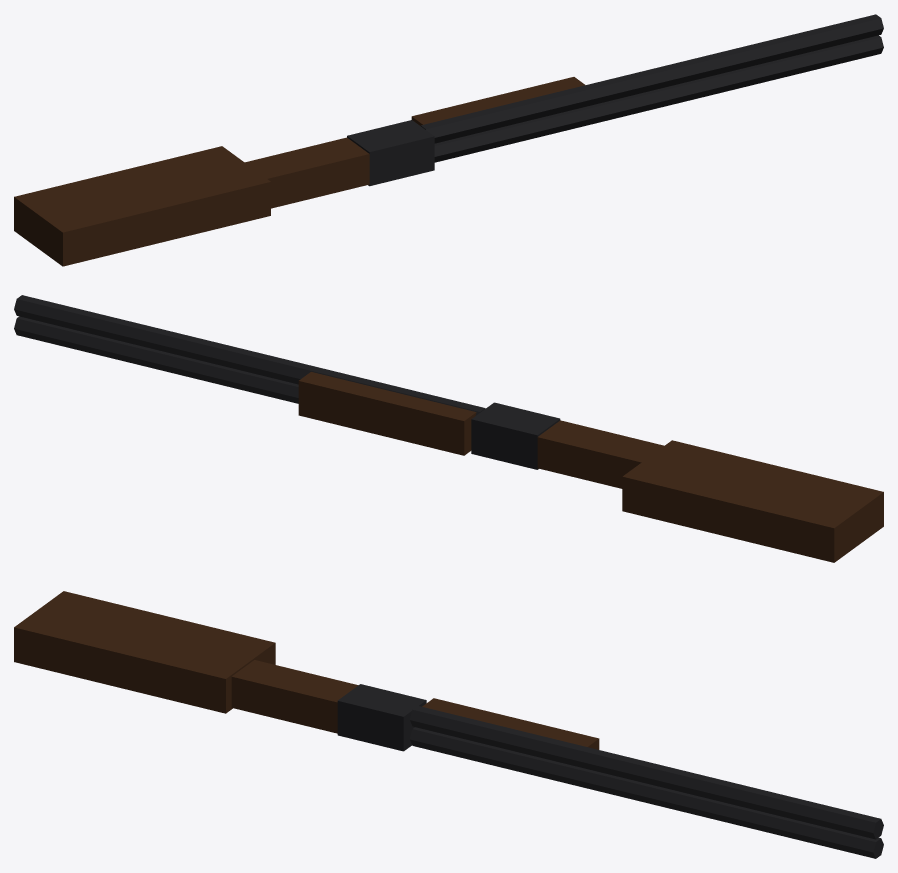
Rendered from SM_Shotgun.obj.
3 views of the same model, one above another, from view 1: azimuth 30°, elevation 25°; view 2: azimuth 150°, elevation 25°; view 3: azimuth 330°, elevation 25° (orthographic).
Visible parts, largest first — view 1: SM_Shotgun; view 2: SM_Shotgun; view 3: SM_Shotgun.
Boxes of the visible parts, x1,y1,x2,y2 form: SM_Shotgun: [14, 14, 883, 266]; SM_Shotgun: [14, 295, 883, 562]; SM_Shotgun: [14, 591, 883, 858].
Size of the model in its own units: 1.28 by 0.0522 by 0.13.
